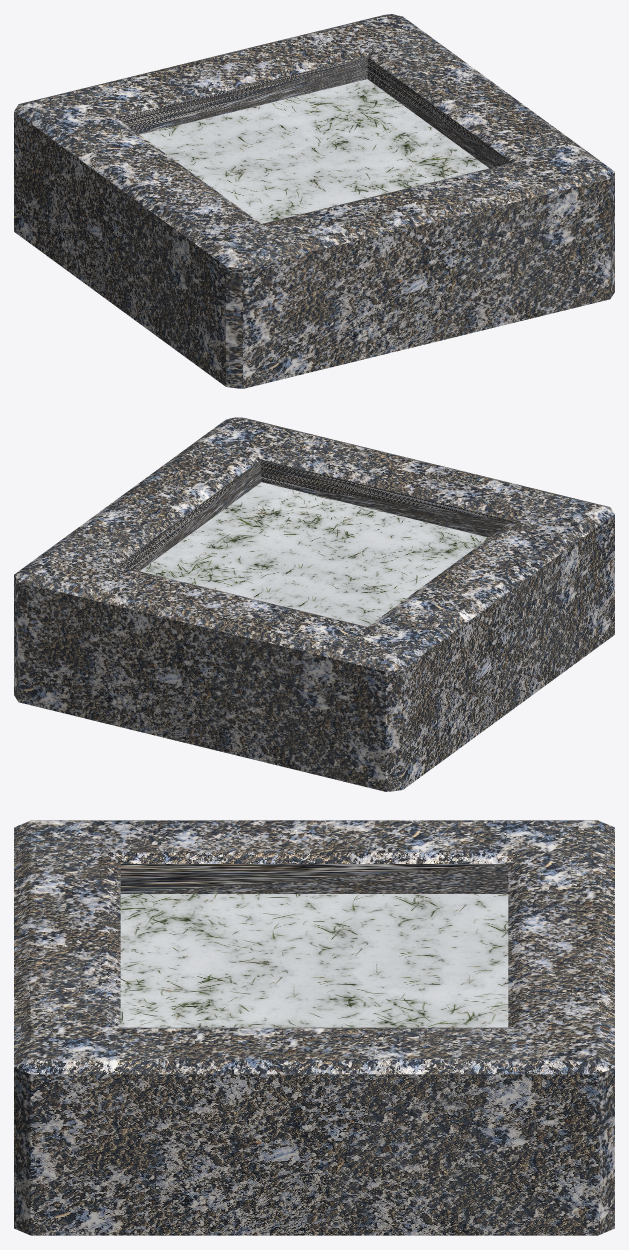
Rendered from TreeHolder.fbx.
The picture shows the model from 3 angles, top to bottom: view 1: azimuth 30°, elevation 25°; view 2: azimuth 150°, elevation 25°; view 3: azimuth 270°, elevation 25°; orthographic projection. The views are drawn at different scales.
Visible parts, largest first — view 1: Cube.018; view 2: Cube.018; view 3: Cube.018.
Part boxes in pixels (box(x1,y1,x2,y2)): Cube.018: box(14, 14, 614, 388); Cube.018: box(14, 417, 614, 791); Cube.018: box(14, 820, 614, 1235).
Size of the model in its own units: 200 by 63.65 by 200.
